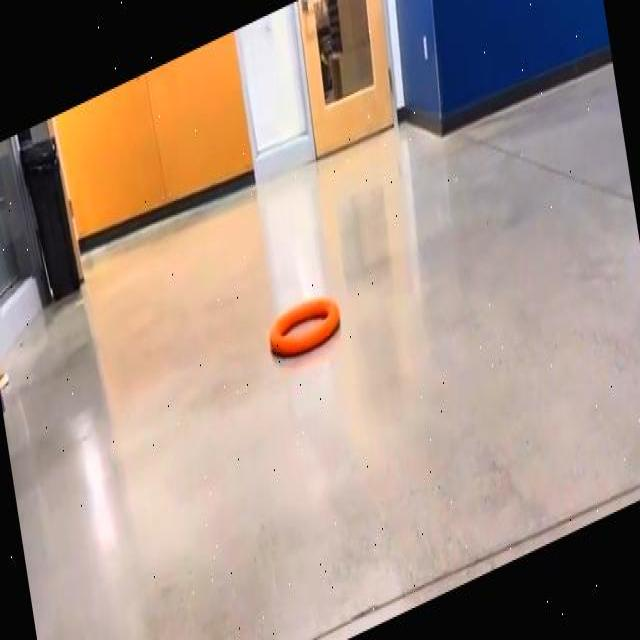note: (269, 295, 339, 356)
